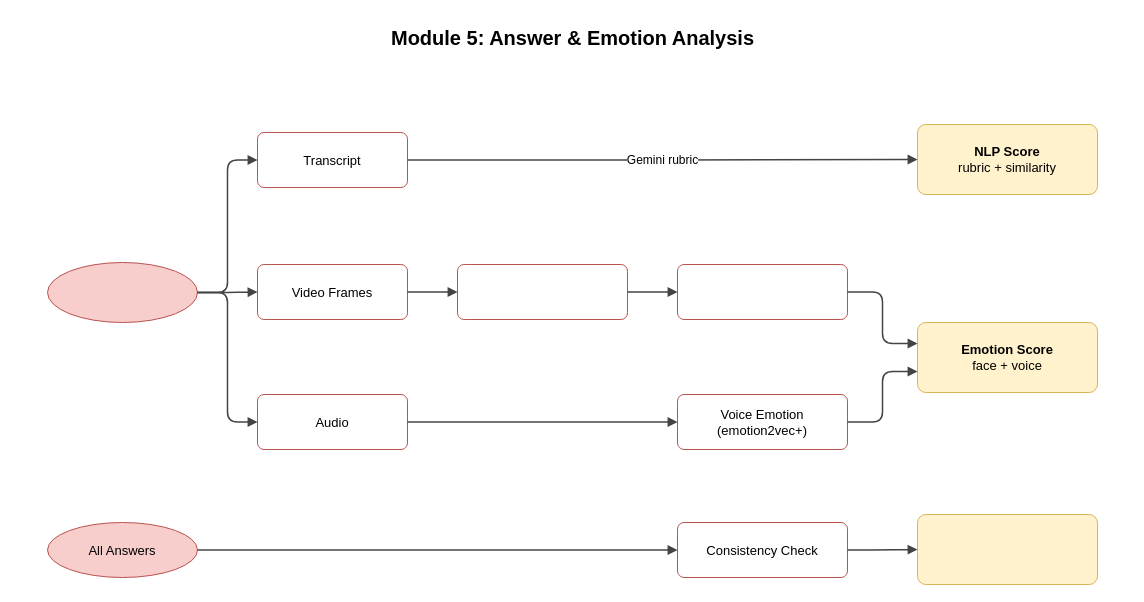
Some shapes in this 1144 by 602 pixel diagram are drawn without their labels. The centre of each missing label's shape, as x and y in pixels:
Context Score: point (1007, 549)
Face Detection (YuNet): point (542, 292)
Facial Emotion (HSEmotion): point (762, 292)
Recorded Answer: point (122, 292)
